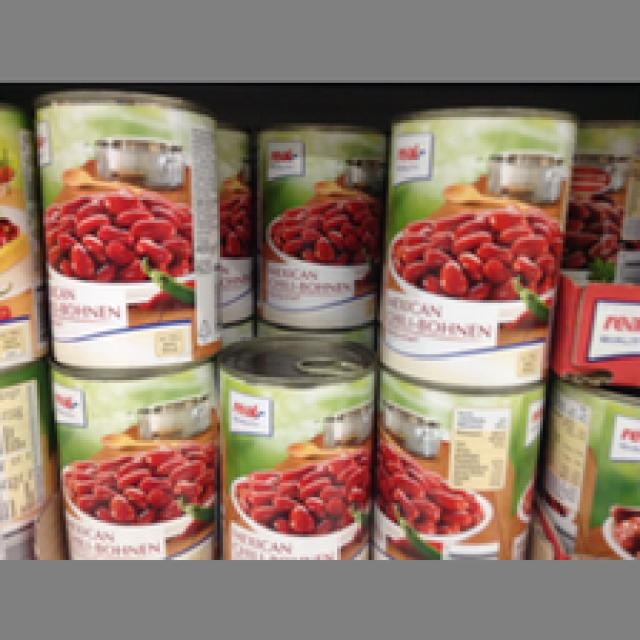groceries: (383, 106, 574, 394), (29, 86, 220, 371), (215, 334, 372, 557), (46, 372, 214, 557), (383, 372, 543, 554), (249, 117, 377, 329)
